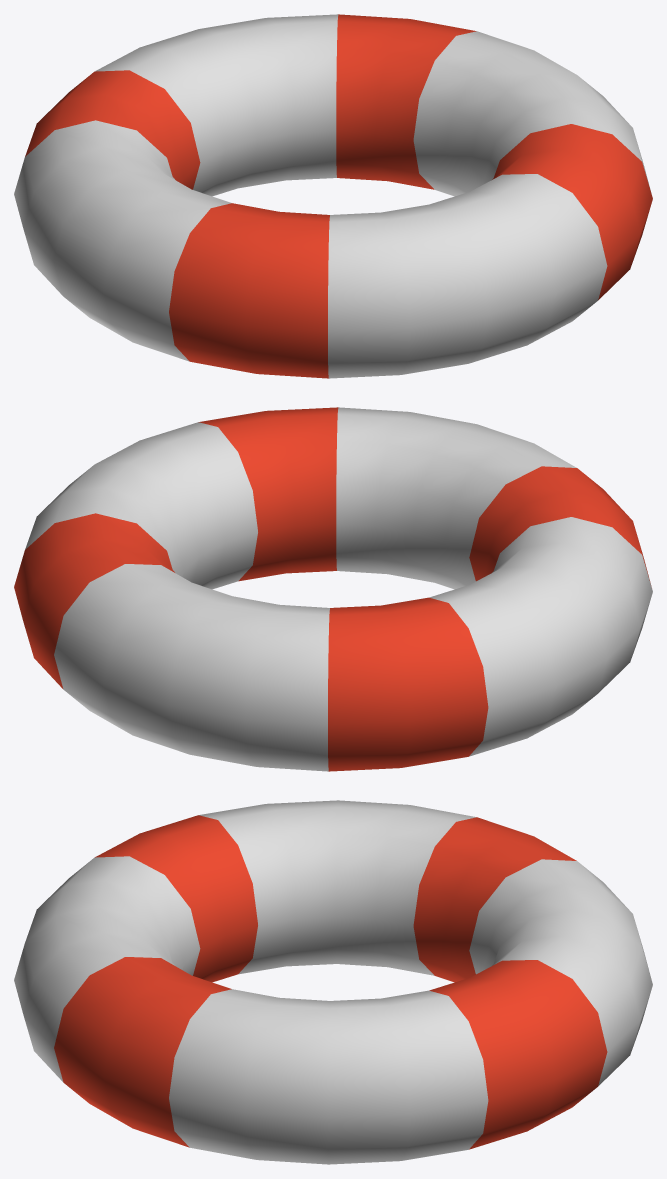
The model's file is Can_Simidi.fbx.
3 views of the same model, one above another, from view 1: azimuth 30°, elevation 25°; view 2: azimuth 150°, elevation 25°; view 3: azimuth 270°, elevation 25° (orthographic).
Parts seen in each view (by area): view 1: livevest; view 2: livevest; view 3: livevest.
Boxes of the visible parts, x1,y1,x2,y2 form: livevest: (14,14,652,378); livevest: (14,407,652,771); livevest: (14,800,652,1164).
Size of the model in its own units: 83.34 by 21.42 by 83.34.
